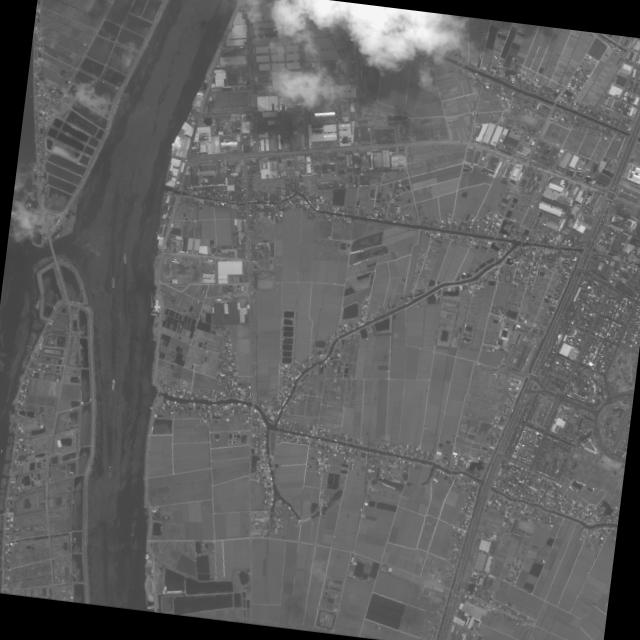ship: (130, 520, 135, 536), (111, 276, 115, 287), (123, 253, 127, 263), (112, 378, 115, 389), (108, 464, 111, 475), (0, 448, 3, 453), (25, 202, 27, 207), (29, 202, 31, 205), (29, 202, 30, 206)
storage-tank: (167, 208, 172, 212), (167, 174, 172, 178), (168, 170, 173, 174), (170, 200, 174, 204), (169, 204, 173, 208), (165, 215, 169, 219), (171, 196, 175, 200), (167, 212, 171, 215), (164, 220, 168, 223)
